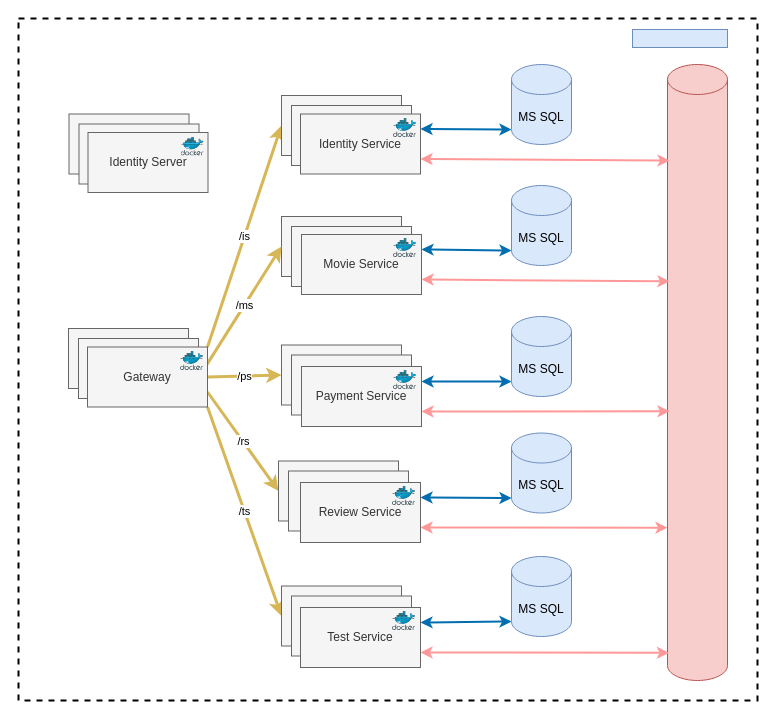
Some shapes in this 775 by 718 pixel diagram are drawn without their labels. The shapes that lost their labels are listed below. From the top down, each one's centre as x and y in pixels, then its label:
the point at 680,38: Private Network
the point at 697,372: RabbitMQ
